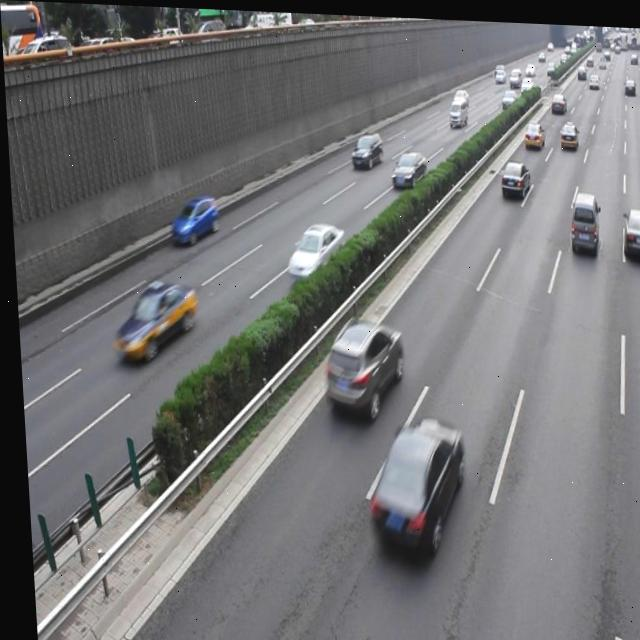car: (356, 409, 461, 556), (318, 313, 400, 414), (107, 278, 195, 362), (281, 217, 342, 278), (167, 193, 217, 245), (388, 146, 426, 187), (496, 155, 529, 196), (617, 201, 640, 256), (347, 128, 381, 165)
truck: (564, 187, 596, 252)
